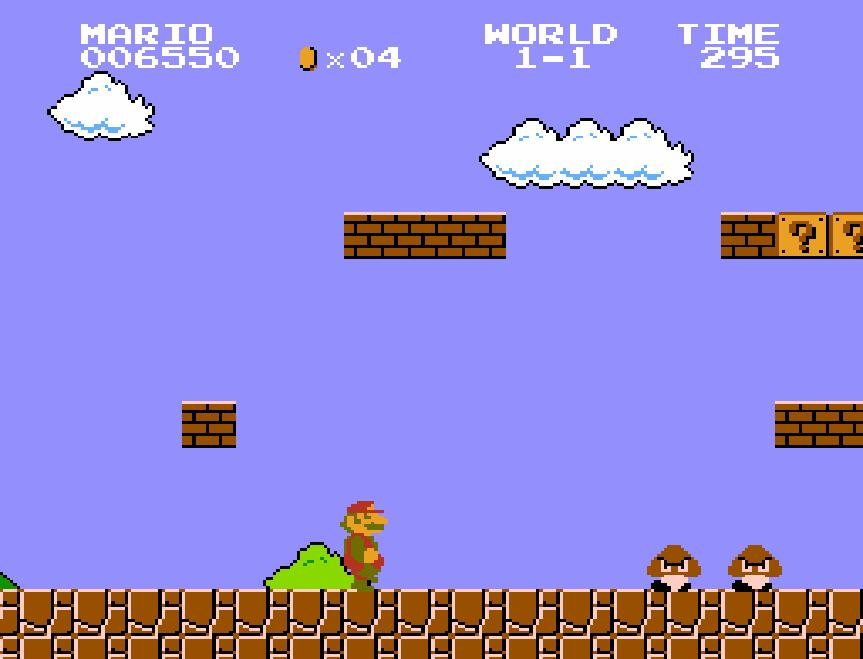big_mario: (335, 496, 393, 594)
